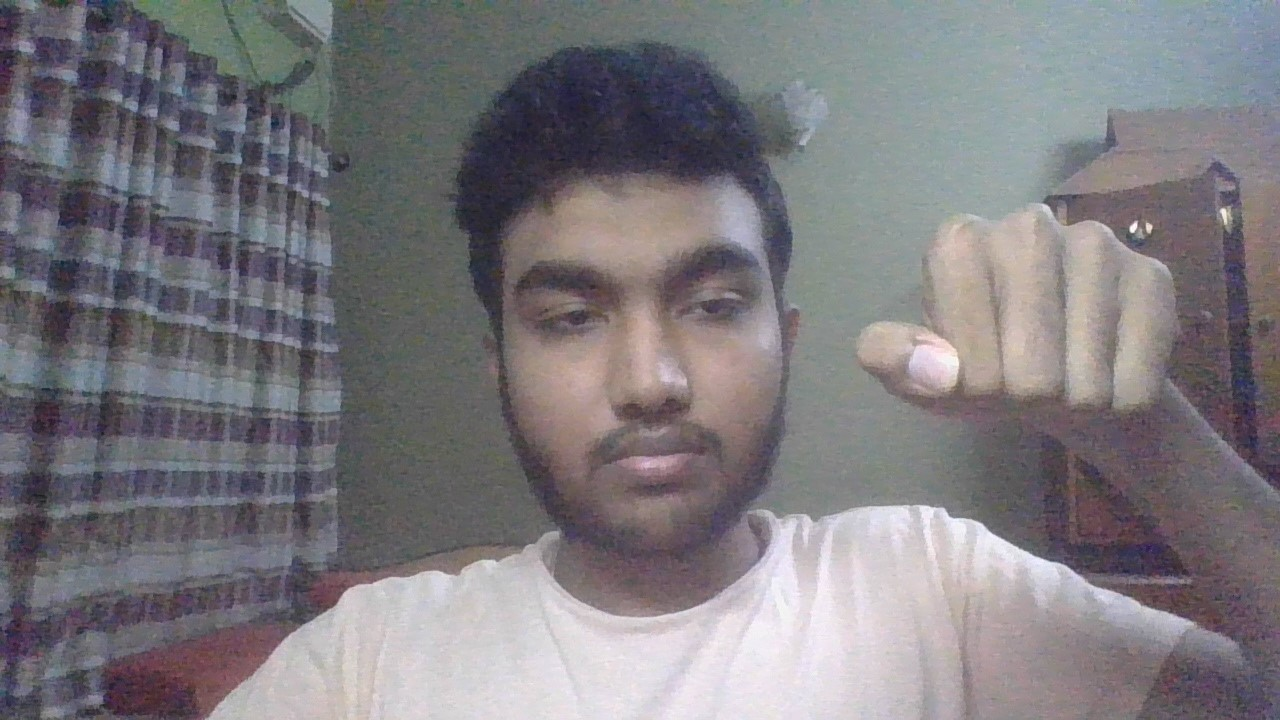Yes: (845, 193, 1190, 463)
